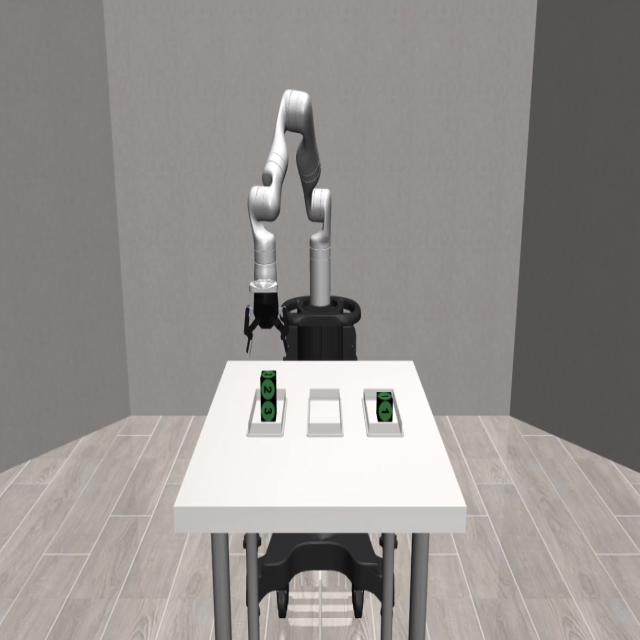cube1: (375, 390, 393, 422)
cube2: (260, 368, 276, 402)
cube3: (261, 398, 276, 423)
